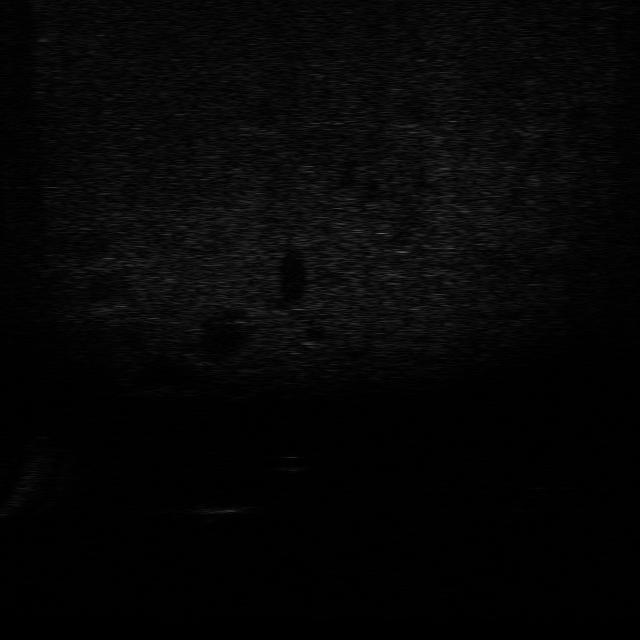ball: (268, 448, 312, 478)
square cage: (190, 492, 260, 524)
tyre: (502, 482, 558, 517)
